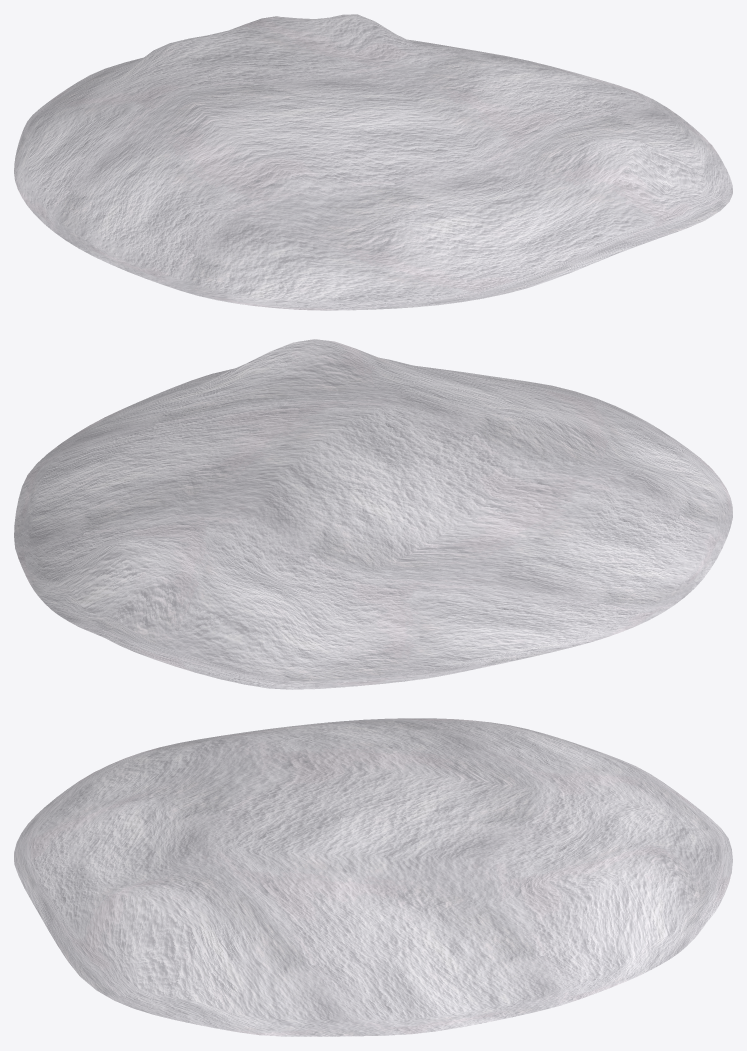
Rendered from Terrain.fbx.
3 views of the same model, one above another, from view 1: azimuth 30°, elevation 25°; view 2: azimuth 150°, elevation 25°; view 3: azimuth 270°, elevation 25° (orthographic). The views are drawn at different scales.
Visible parts, largest first — view 1: SnowPlaneURP; view 2: SnowPlaneURP; view 3: SnowPlaneURP.
Part boxes in pixels (x1,y1,x2,y2): SnowPlaneURP: (14, 14, 732, 310); SnowPlaneURP: (14, 339, 732, 689); SnowPlaneURP: (14, 718, 732, 1036).
Bounding box in the file's own units: 8458 × 922 × 8445.
